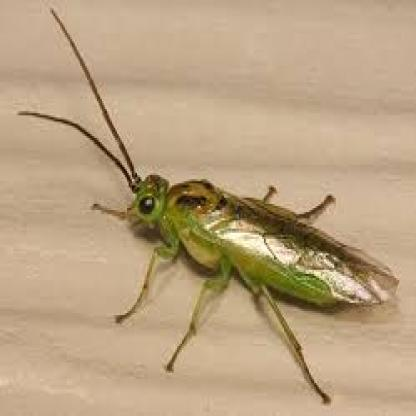sawfly: (19, 7, 403, 408)
